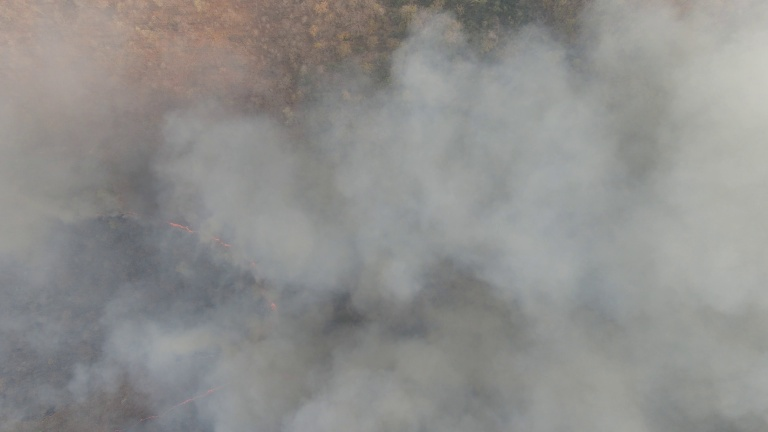fire: (162, 214, 287, 327), (150, 374, 270, 413)
smoke: (155, 9, 768, 303), (98, 289, 768, 432)
